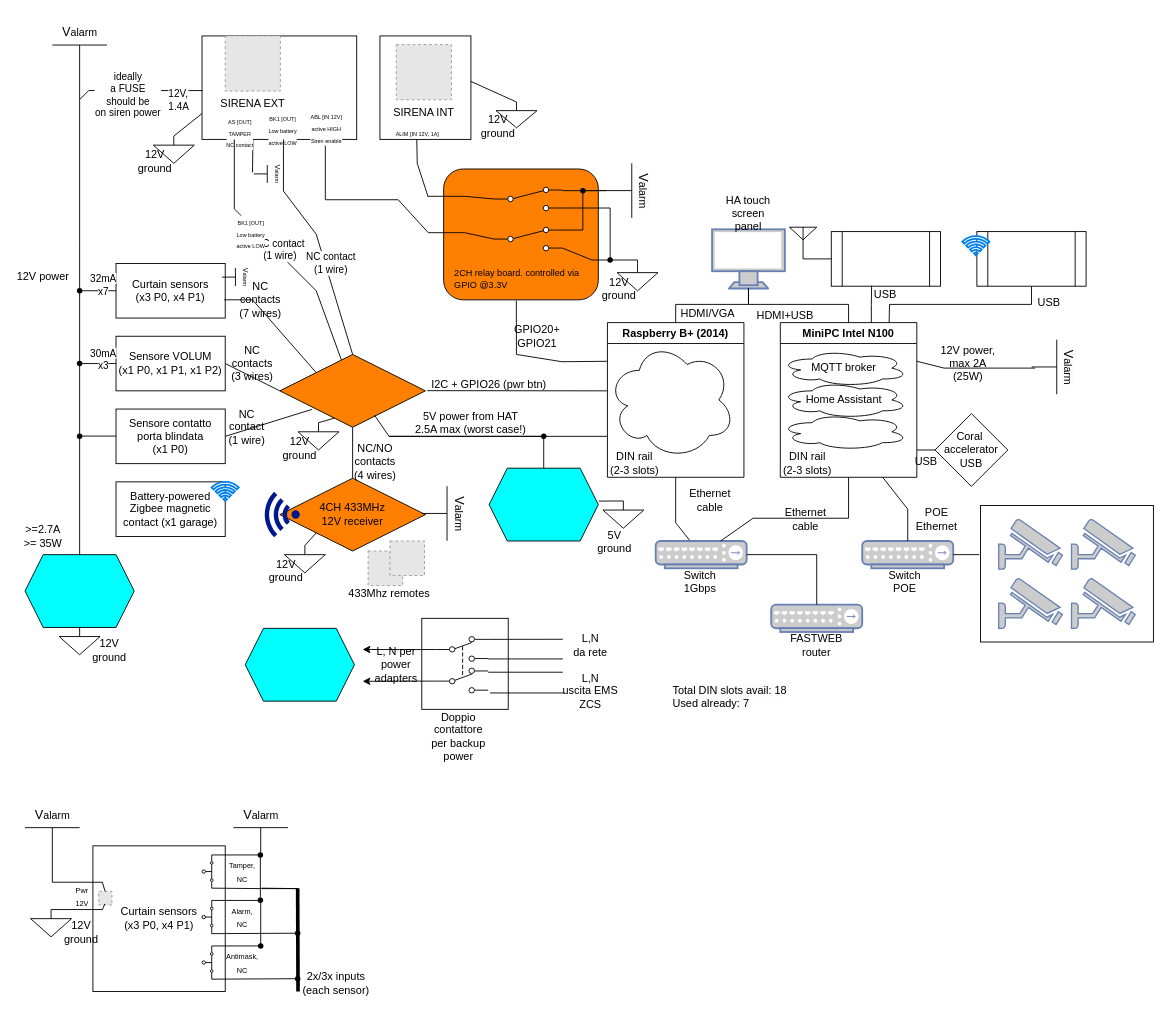
Some shapes in this 1169 by 1012 pixel diagram are drawn without their labels. Grey dashed boxes stand in for pictures. The shapes that lost their labels are listed below. From the top down, each one's centre as x and y in pixels, then its label:
At point 885,258: "SIM800C GSM 2G modem (to send SMS)".
At point 1031,258: "Zigbee router".
At point 352,390: "16 inputs opto-isolated raspberry HAT".
At point 671,399: "custom Python server to publish to an MQTT broker".
At point 843,431: "Frigate".
At point 543,504: "5V AC/DC power adapter DIN rail (2 slots)".
At point 79,590: "12V AC/DC power adapter DIN rail, 2 slots".
At point 299,664: "Switches, FASTWEB router AC/DC power adapters".
